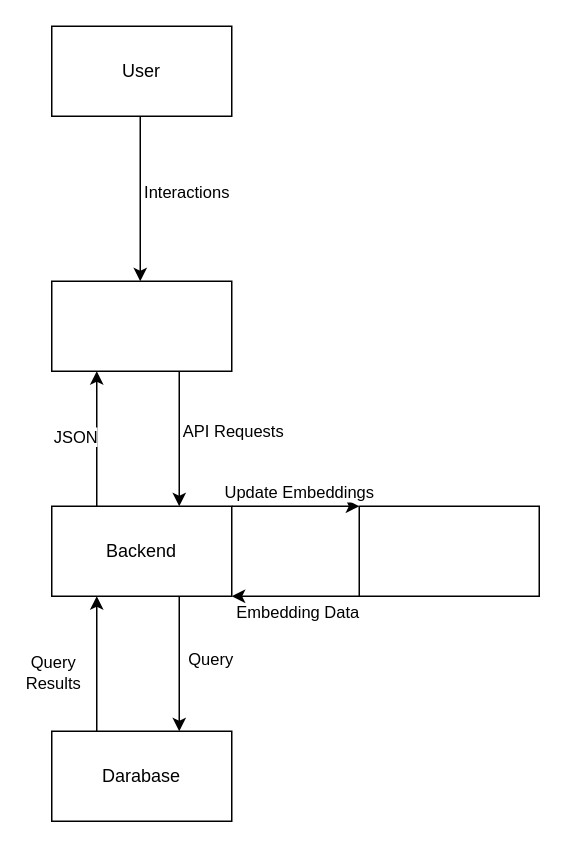
The diagram is 567 pixels wide and 848 high, and some of its shapes have lost their labels. The shapes that lost their labels are listed below. From the top down, each one's centre as x and y in pixels, then its label:
(141,325): Frontend
(448,550): Embedding Engine
